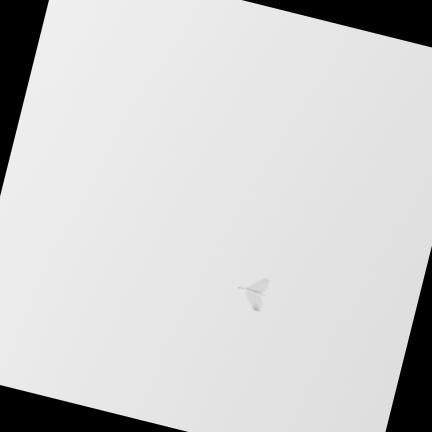Shahed: (237, 278, 268, 310)
